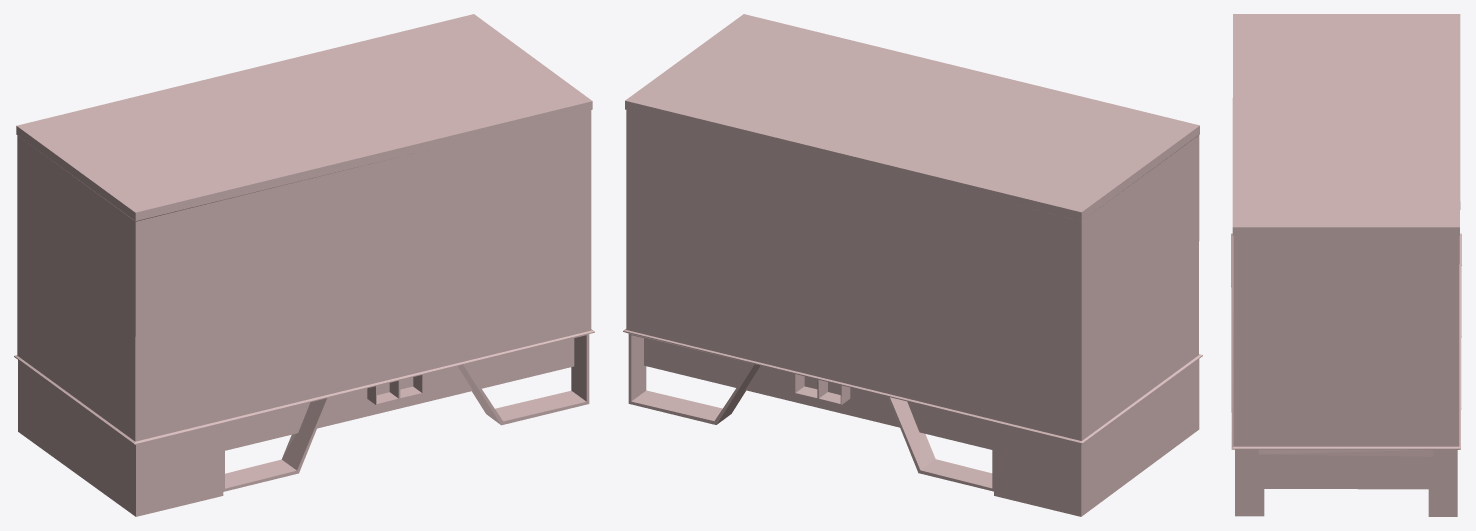
File: generator6.fbx
3 views of the same model, side by side, from view 1: azimuth 30°, elevation 25°; view 2: azimuth 150°, elevation 25°; view 3: azimuth 270°, elevation 25° (orthographic). The views are drawn at different scales.
Visible parts, largest first — view 1: Genesis_Props_Generator; view 2: Genesis_Props_Generator; view 3: Genesis_Props_Generator.
Part boxes in pixels (<box>): Genesis_Props_Generator: <box>14,14,594,516</box>; Genesis_Props_Generator: <box>623,14,1202,516</box>; Genesis_Props_Generator: <box>1231,14,1461,516</box>.
Bounding box in the file's own units: 235 × 149 × 107.
